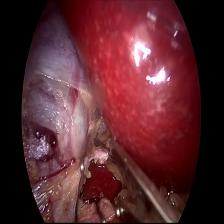Scissors: (108, 130, 185, 222)
